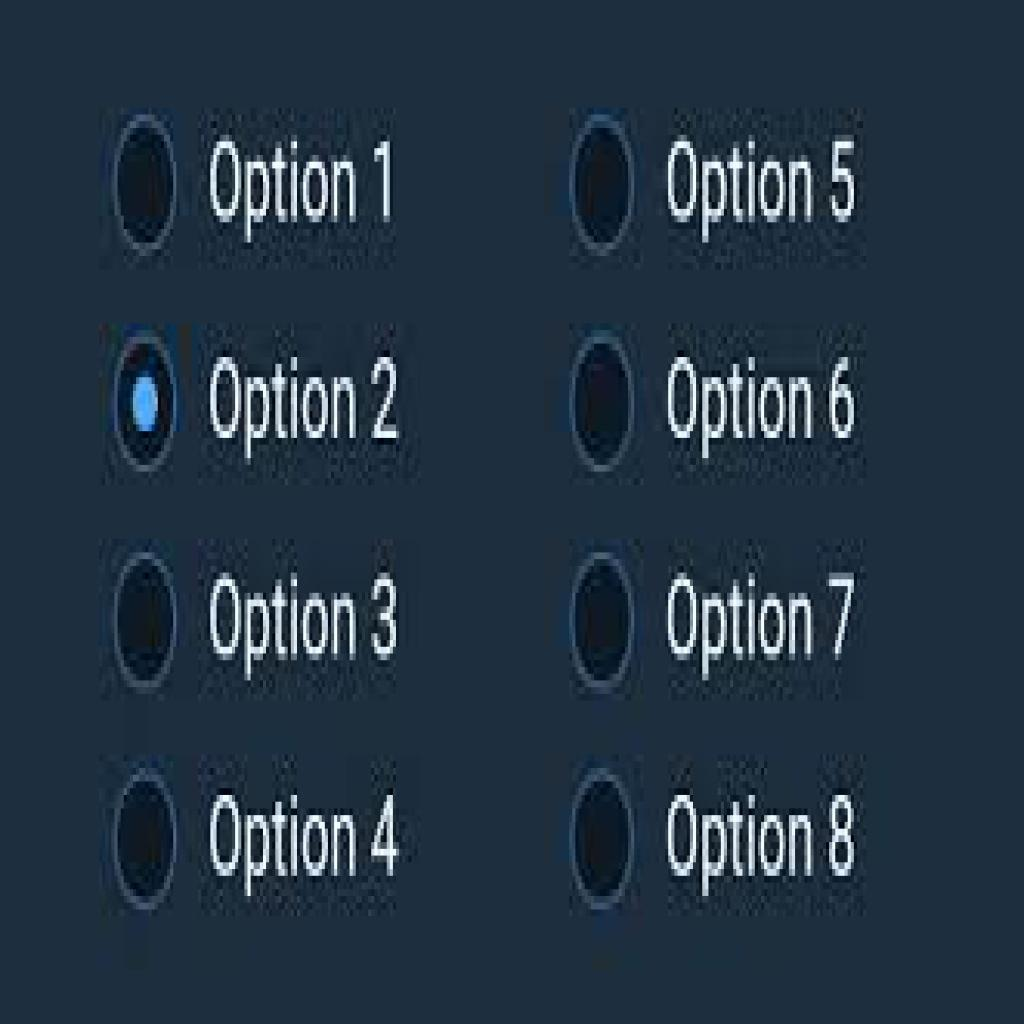label: (202, 785, 408, 907), (662, 348, 863, 471), (665, 782, 861, 901), (665, 128, 858, 245), (664, 570, 860, 685), (207, 568, 400, 684), (205, 352, 405, 455), (210, 134, 403, 240)
radio: (563, 320, 640, 487), (563, 750, 637, 922), (563, 538, 640, 703), (564, 102, 640, 267), (108, 546, 183, 707), (109, 763, 183, 924), (112, 98, 181, 270), (111, 323, 180, 486)
